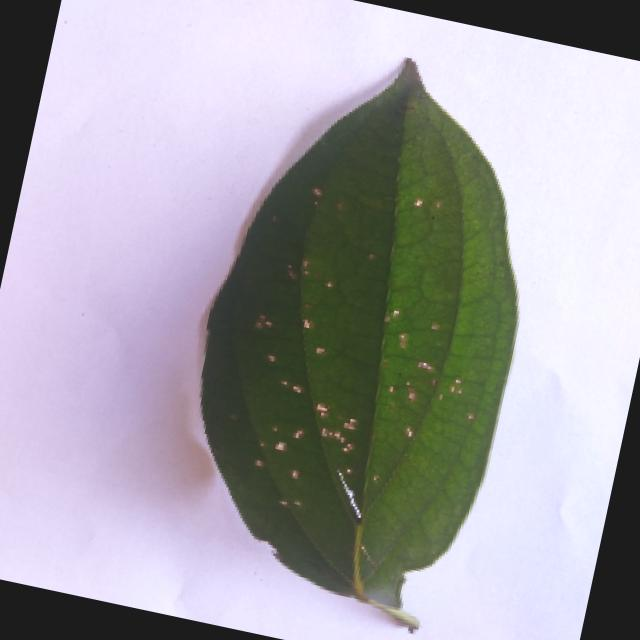pollu-disease: (156, 31, 574, 636)
